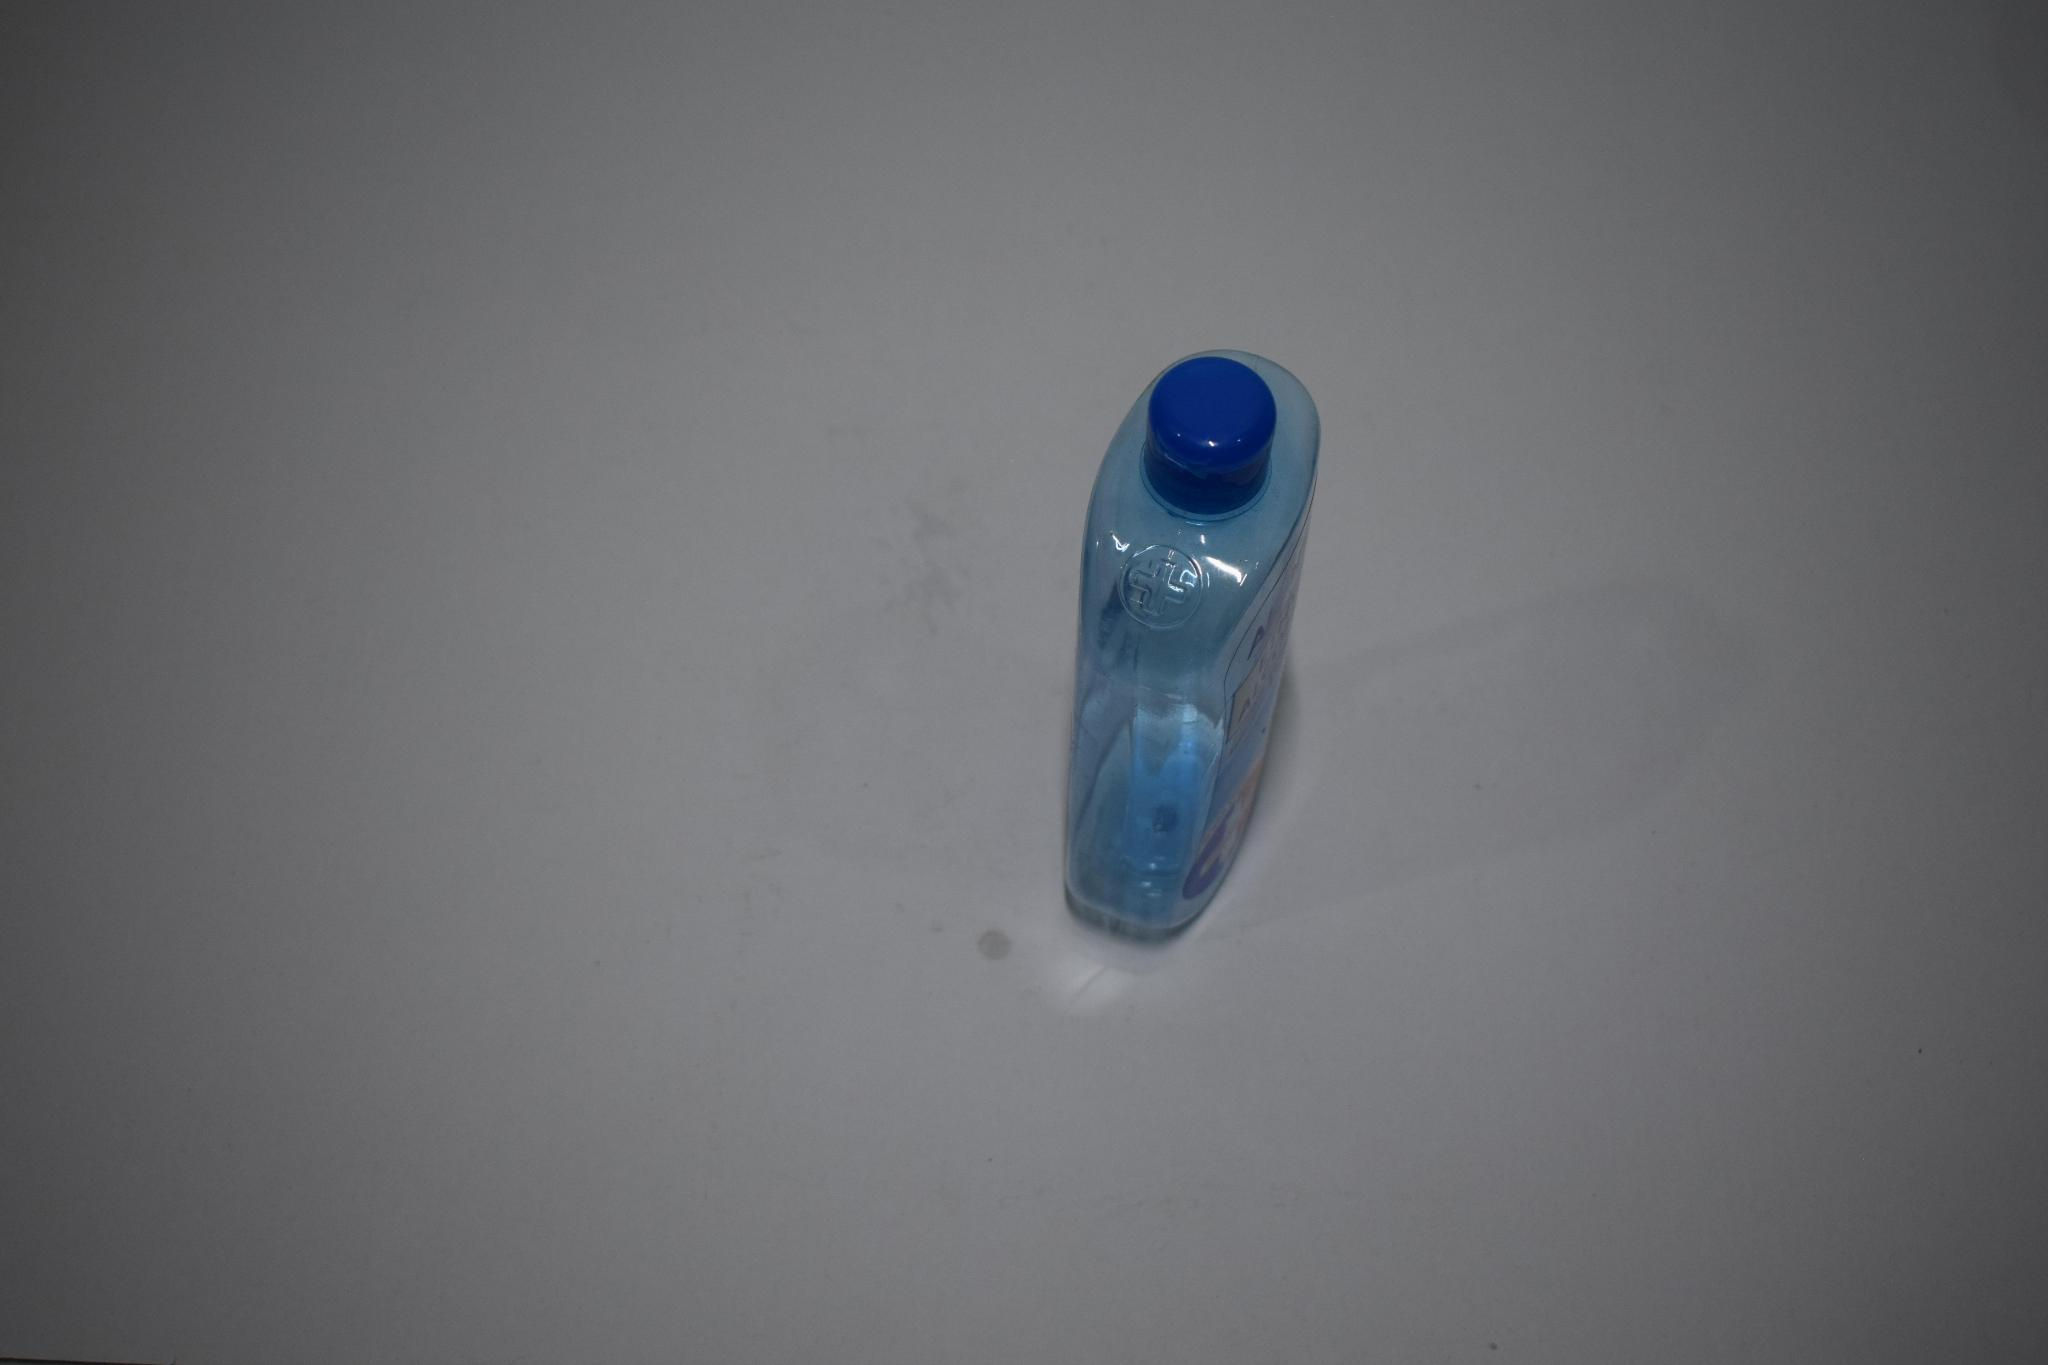bottle: (1060, 344, 1329, 945)
